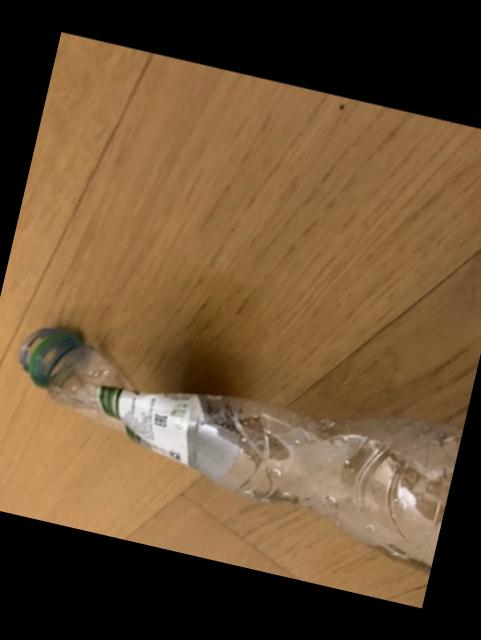plastic: (16, 329, 462, 573)
